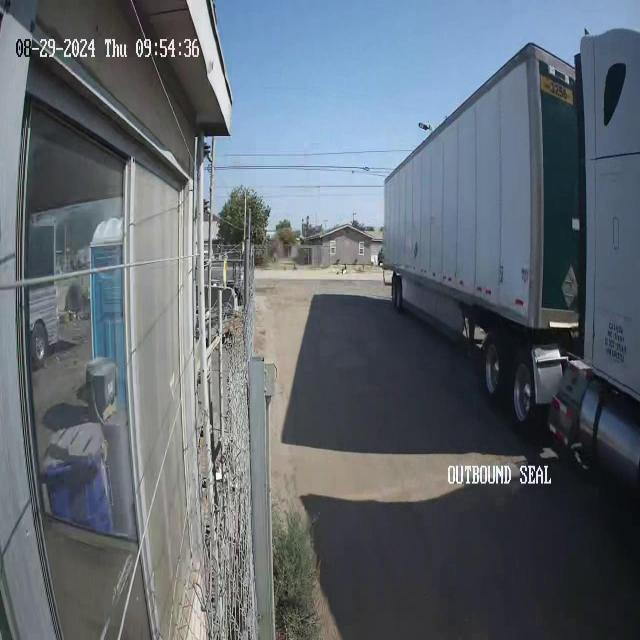TRUCK_IN: (379, 40, 584, 425)
